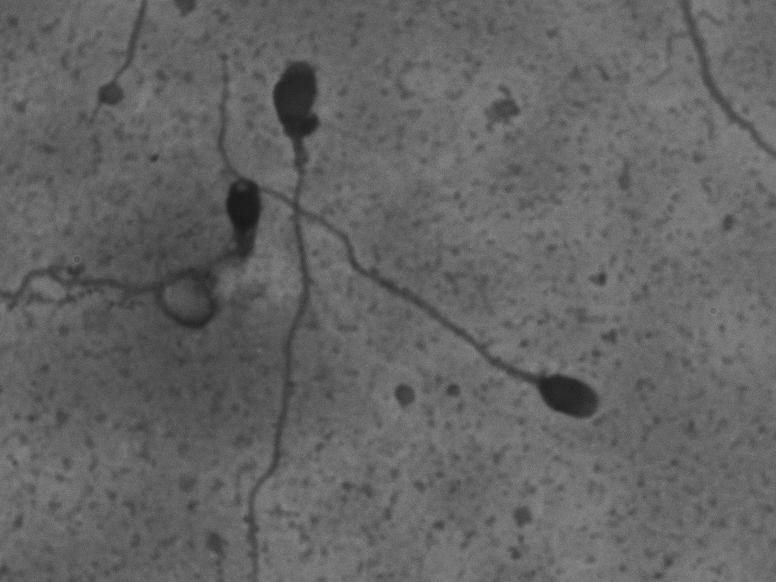Abnormal: (22, 173, 267, 342), (265, 56, 337, 573)
Normal: (211, 54, 607, 429)
